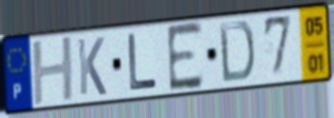7: (262, 13, 295, 82)
D: (217, 19, 257, 85)
E: (164, 20, 205, 96)
H: (30, 34, 77, 109)
K: (75, 35, 109, 98)
L: (126, 31, 159, 94)
